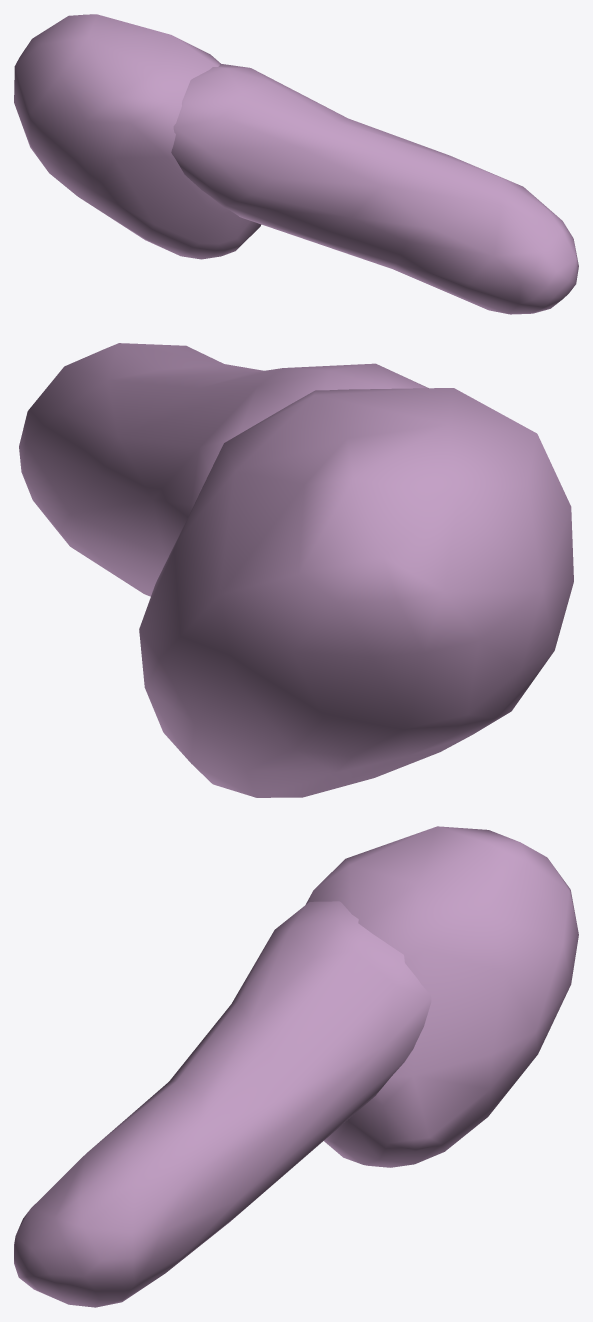
3 views of the same model, one above another, from view 1: azimuth 30°, elevation 25°; view 2: azimuth 150°, elevation 25°; view 3: azimuth 270°, elevation 25° (orthographic). The views are drawn at different scales.
Visible parts, largest first — view 1: 左侧下丘; view 2: 左侧下丘; view 3: 左侧下丘.
Part boxes in pixels (bbox=[...]): 左侧下丘: bbox=[14, 14, 578, 314]; 左侧下丘: bbox=[19, 343, 573, 797]; 左侧下丘: bbox=[14, 826, 578, 1307].
Bounding box in the file's own units: 0.0207 × 0.0121 × 0.0207.
